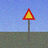sign: (22, 8, 35, 40)
